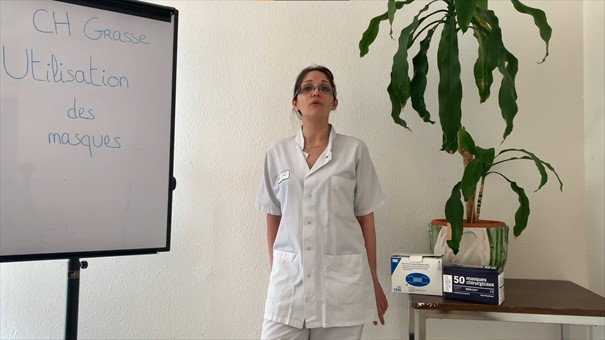without_mask: (292, 78, 339, 119)
